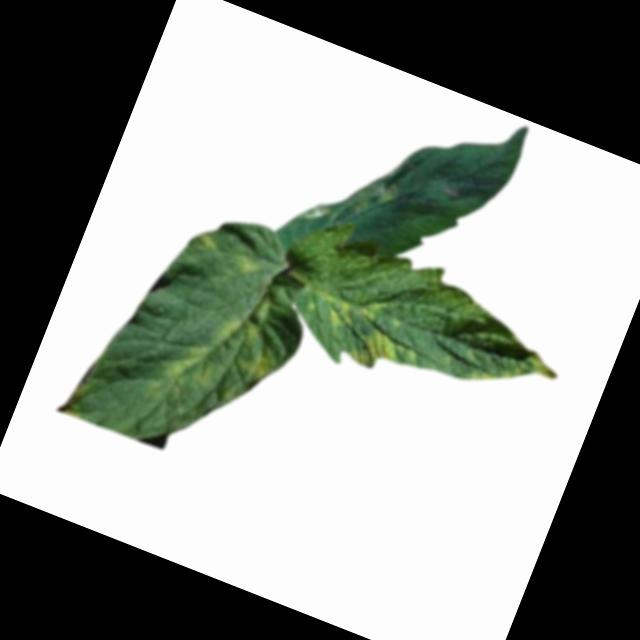Leaf_Mold: (297, 152, 400, 249), (145, 331, 221, 410), (346, 323, 408, 379), (236, 344, 283, 386), (316, 293, 358, 335), (520, 349, 563, 386), (222, 248, 260, 280), (358, 294, 390, 326), (193, 230, 218, 254)
